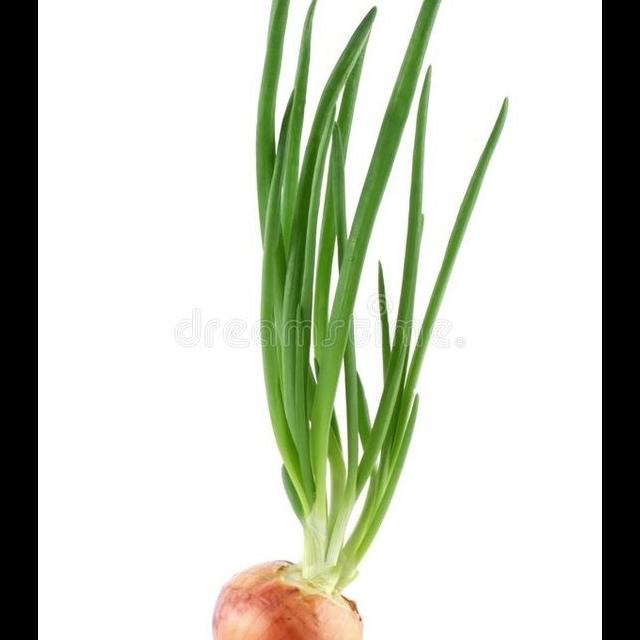green_onion: (205, 0, 541, 548)
onion: (208, 547, 367, 640)
